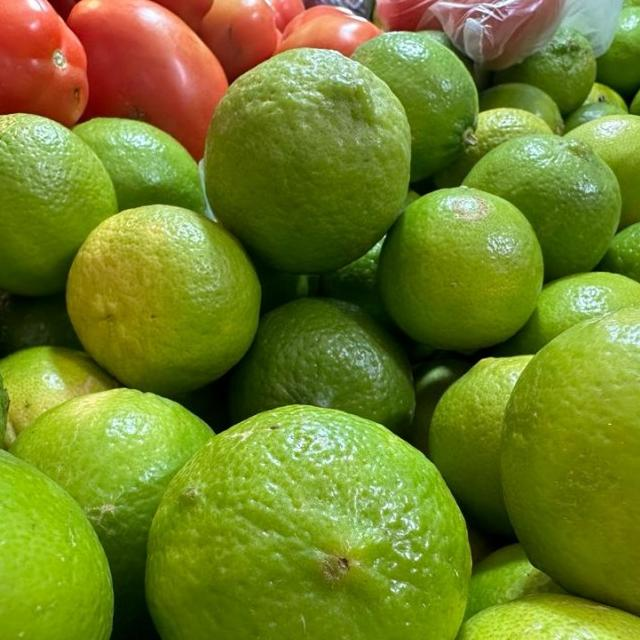lime: (144, 406, 472, 640), (202, 48, 410, 273), (502, 310, 640, 619), (64, 206, 260, 400), (10, 390, 216, 560), (224, 298, 418, 438), (384, 188, 540, 351), (452, 135, 622, 283), (0, 450, 114, 640), (346, 31, 478, 194), (0, 114, 120, 282), (430, 357, 534, 550), (70, 118, 212, 221), (560, 112, 640, 230), (465, 596, 640, 640)
